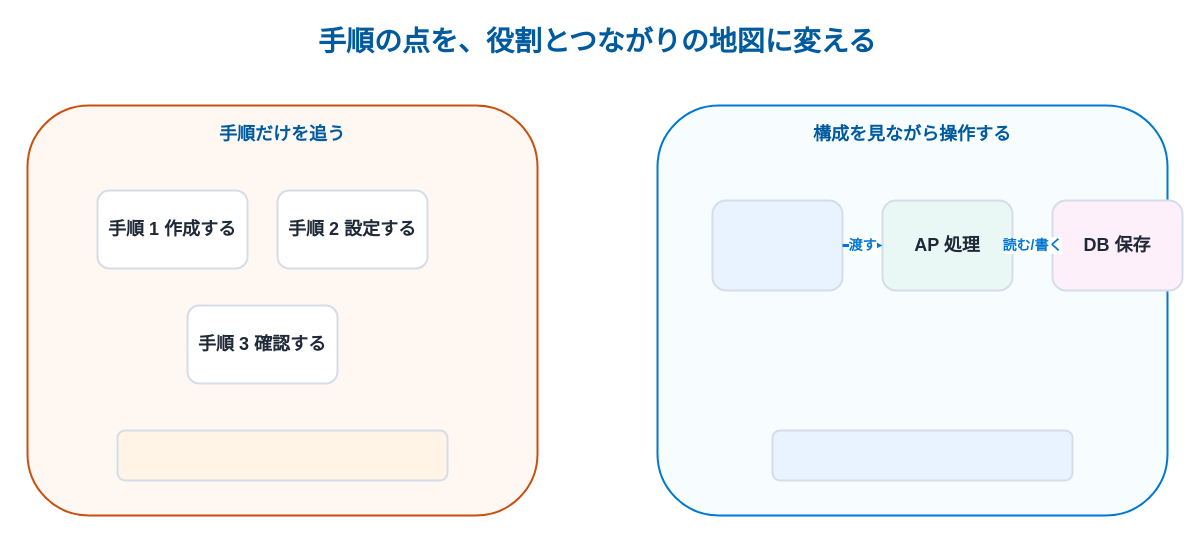
This 1200x533 diagram has some shape labels left out. Each missing label, with the centre of its shape:
"Web 入口" belongs at pixel 777 245.
"役割と接続関係で意味を確認できる" belongs at pixel 922 455.
"関係が見えず、名前だけが残りやすい" belongs at pixel 282 455.
